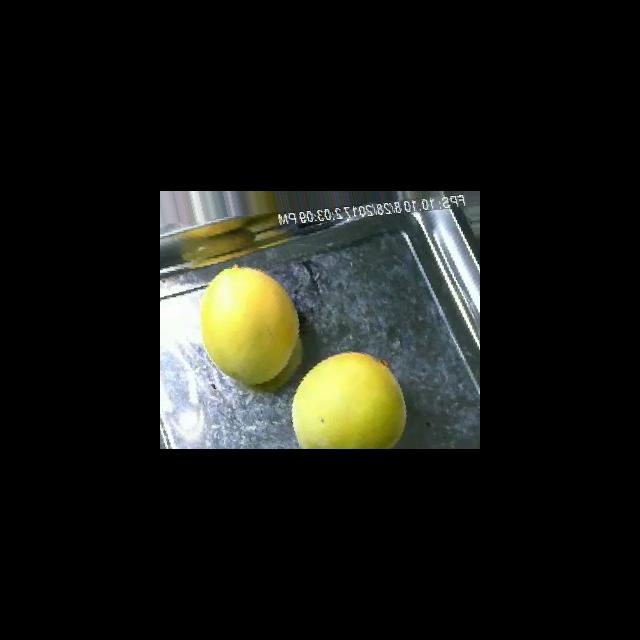Mango: (199, 264, 300, 385), (291, 350, 407, 448)
